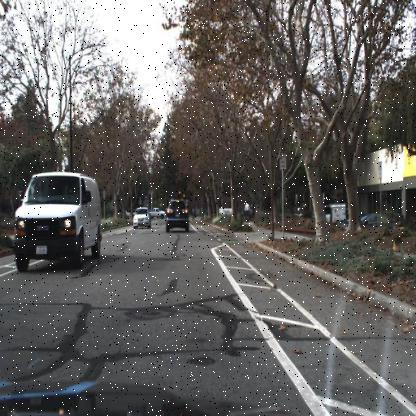car: (13, 172, 102, 274), (164, 198, 191, 233), (132, 206, 152, 230), (149, 205, 166, 221)
truck: (325, 204, 349, 222)
